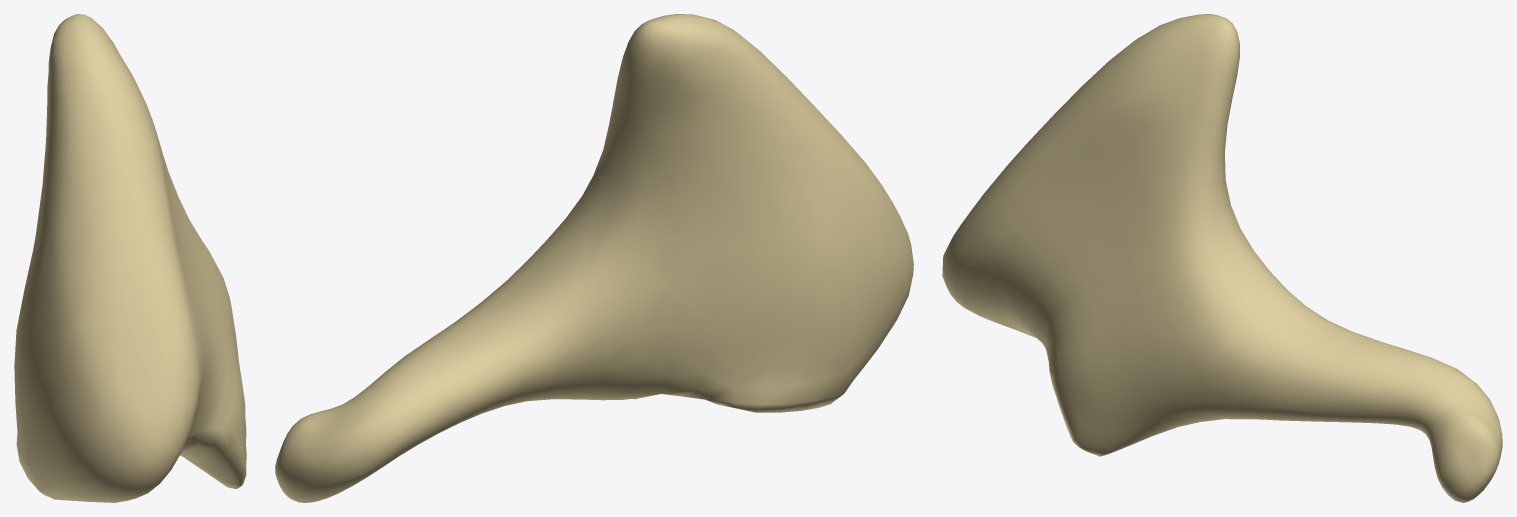
The picture shows the model from 3 angles, left to right: view 1: azimuth 30°, elevation 25°; view 2: azimuth 150°, elevation 25°; view 3: azimuth 270°, elevation 25°; orthographic projection. The views are drawn at different scales.
Visible parts, largest first — view 1: 右侧砧骨; view 2: 右侧砧骨; view 3: 右侧砧骨.
Boxes of the visible parts, x1,y1,x2,y2 form: 右侧砧骨: [14, 14, 246, 502]; 右侧砧骨: [275, 14, 913, 502]; 右侧砧骨: [942, 14, 1502, 502].
Size of the model in its own units: 0.00622 by 0.00721 by 0.00918.
